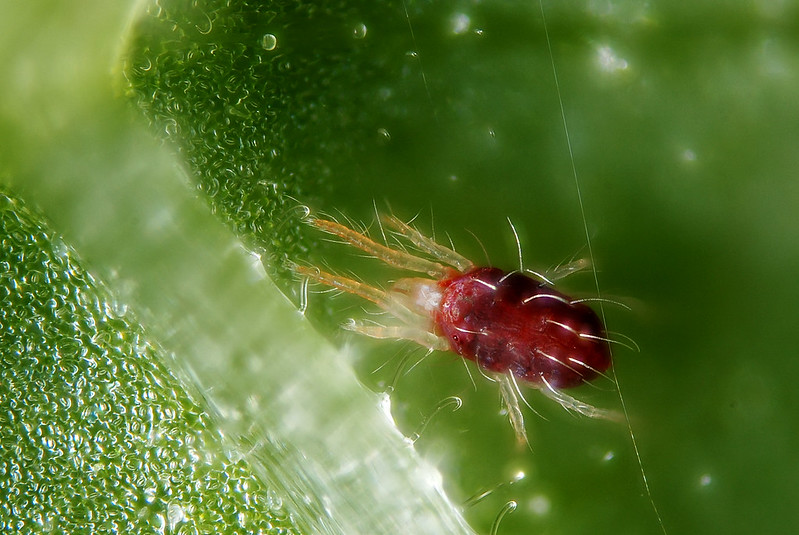Mites: (291, 193, 659, 464)
